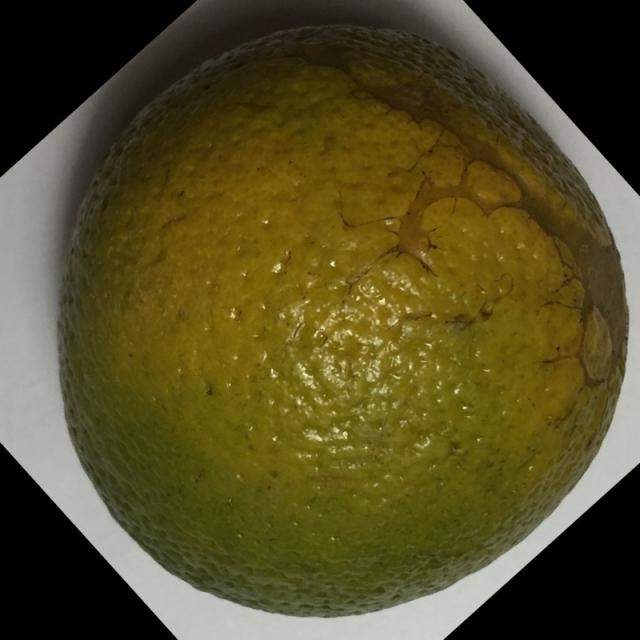canker: (28, 8, 640, 634)
